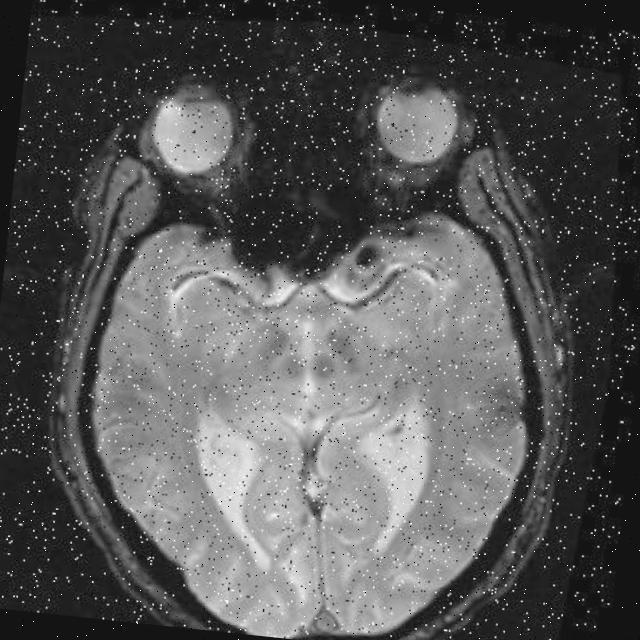EMCI: (466, 362, 552, 448), (346, 220, 406, 292)
